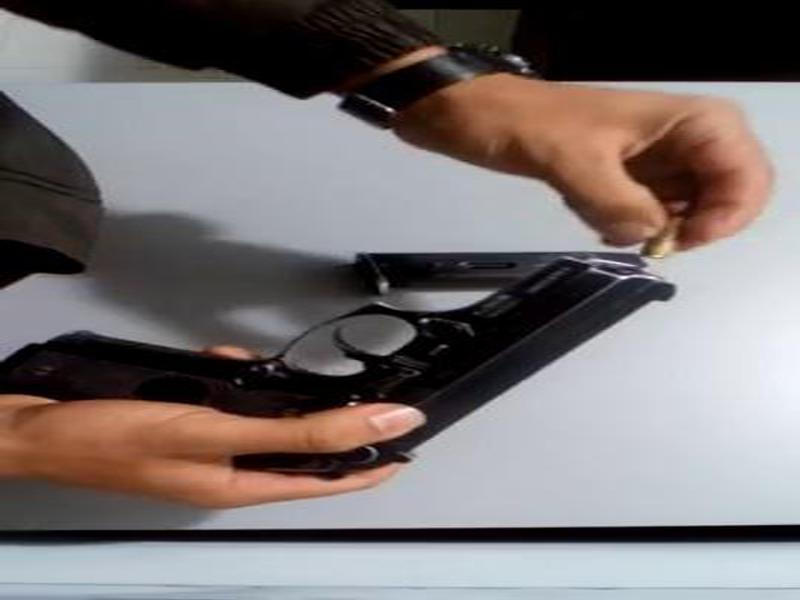Pistola: (1, 229, 682, 494)
